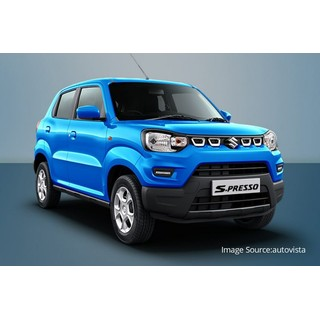car: (33, 76, 285, 246)
